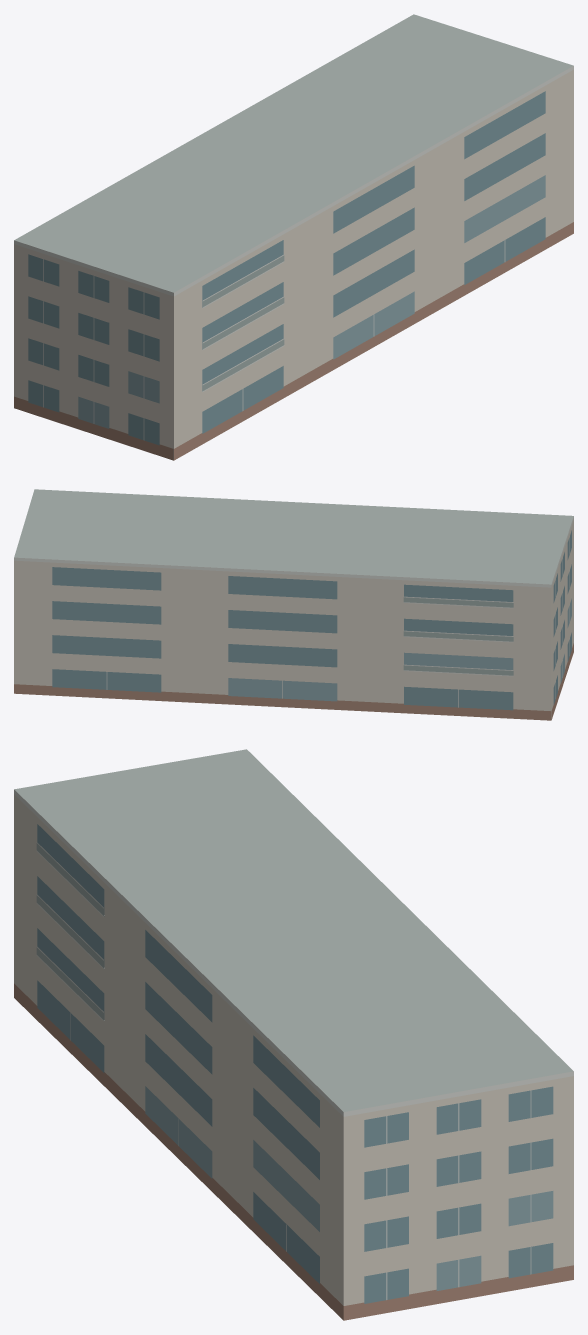
The model's file is survey-upis-32862894.glb.
3 views of the same model, one above another, from view 1: azimuth 30°, elevation 25°; view 2: azimuth 150°, elevation 25°; view 3: azimuth 270°, elevation 25° (orthographic). The views are drawn at different scales.
Visible parts, largest first — view 1: survey-upis-32862894.tmp; view 2: survey-upis-32862894.tmp; view 3: survey-upis-32862894.tmp.
Boxes of the visible parts, x1,y1,x2,y2 form: survey-upis-32862894.tmp: [14, 14, 573, 460]; survey-upis-32862894.tmp: [14, 489, 573, 720]; survey-upis-32862894.tmp: [14, 749, 573, 1320].
Size of the model in its own units: 40.13 by 10.75 by 26.17.
